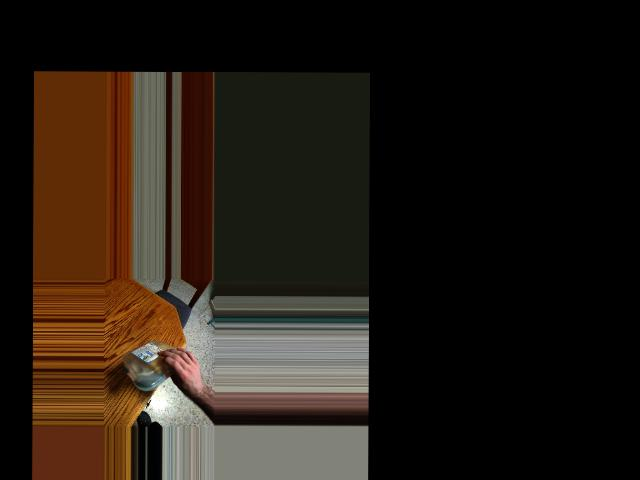cheese: (121, 337, 186, 389)
